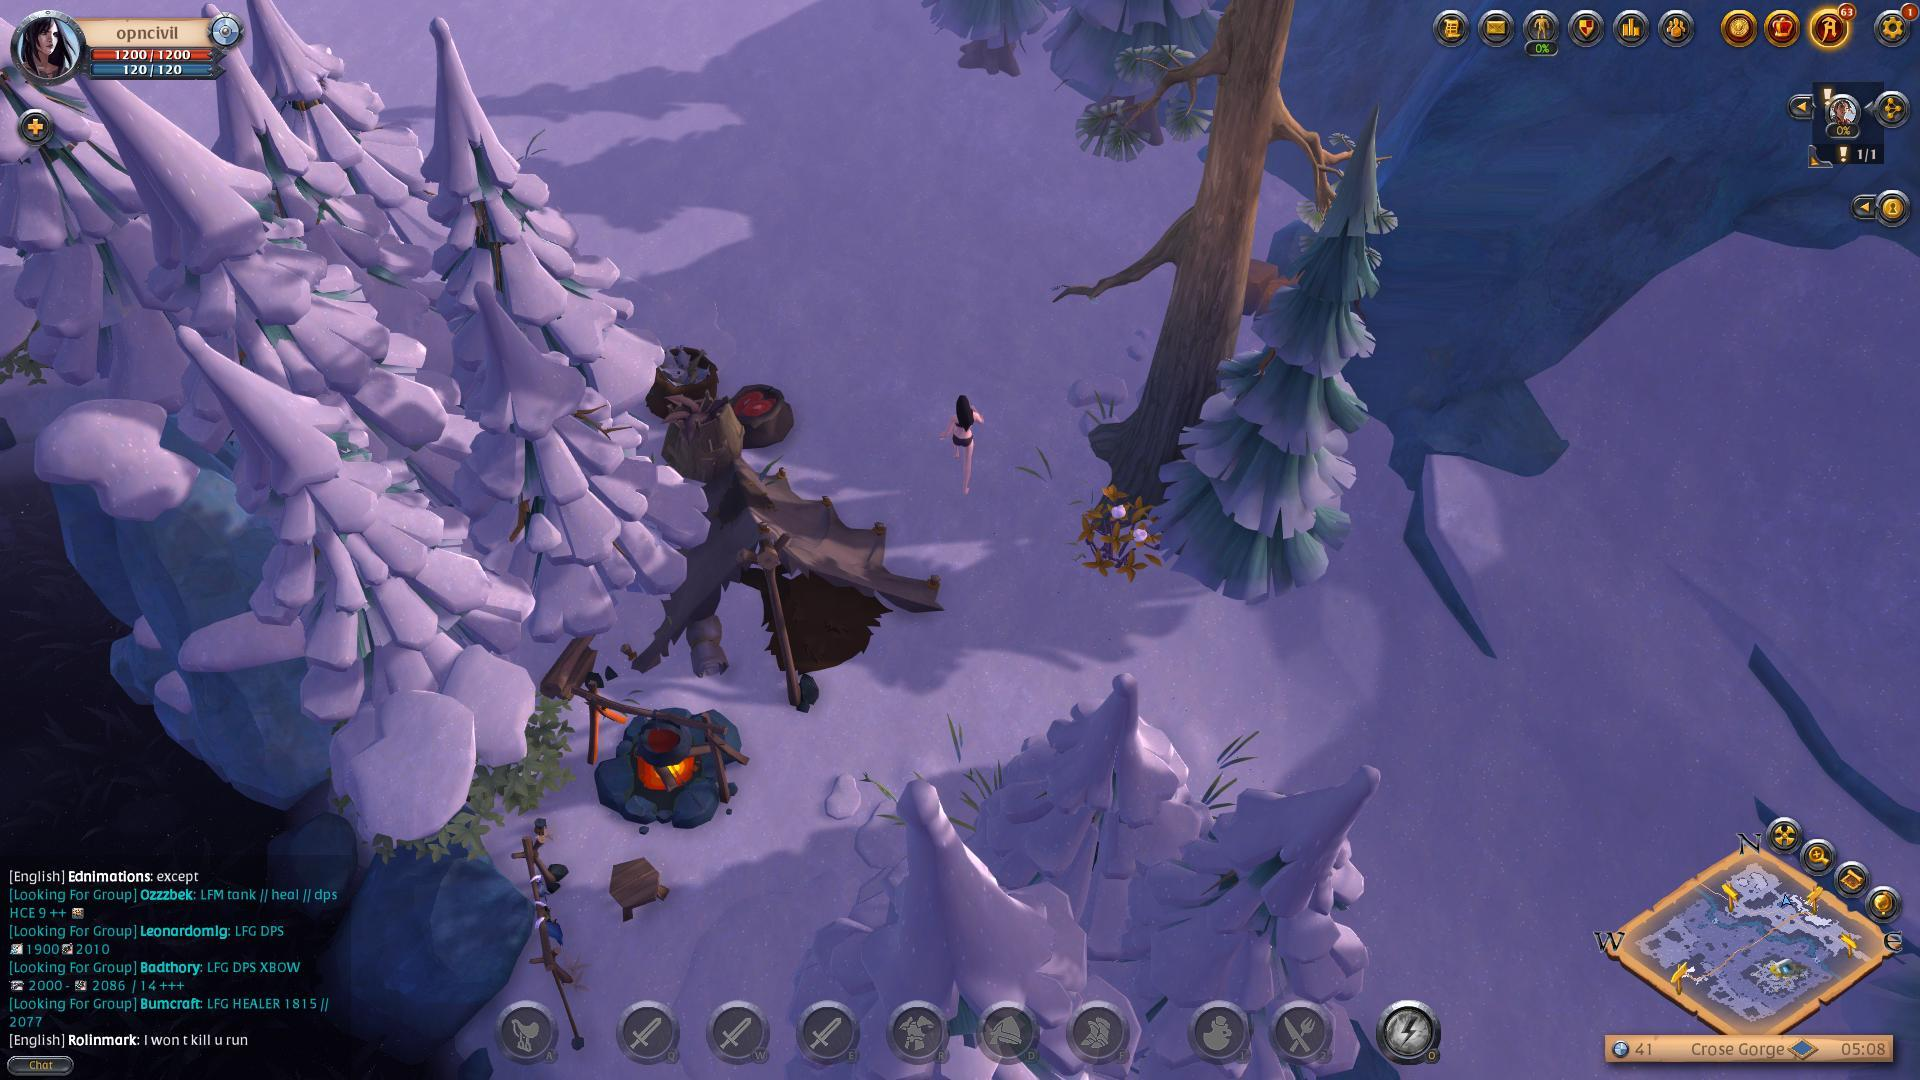cotton: (1073, 485, 1184, 589)
